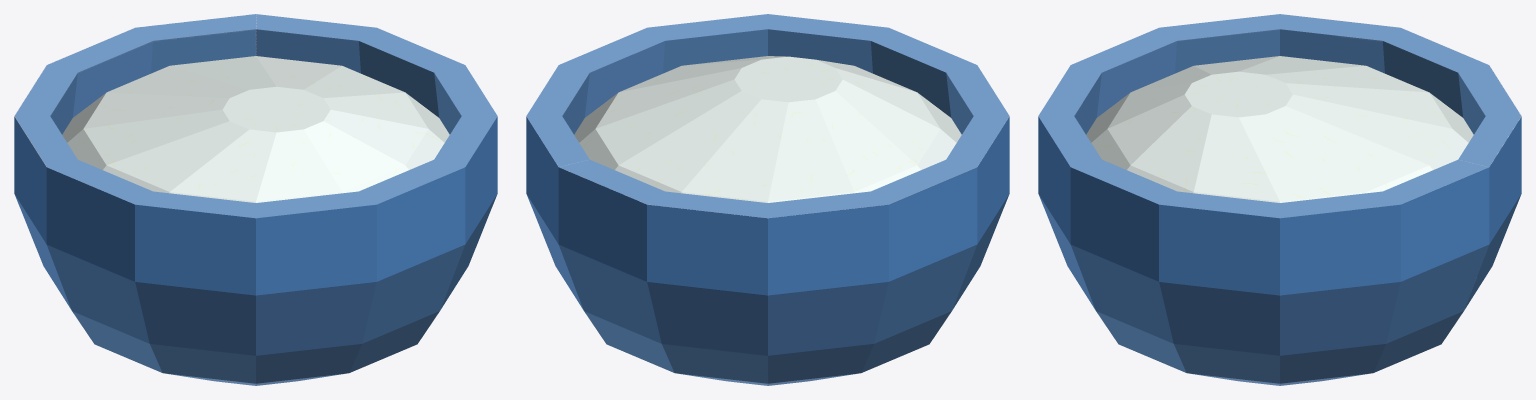
Rendered from arroz.fbx.
3 views of the same model, side by side, from view 1: azimuth 30°, elevation 25°; view 2: azimuth 150°, elevation 25°; view 3: azimuth 270°, elevation 25° (orthographic).
Visible parts, largest first — view 1: Sphere; view 2: Sphere; view 3: Sphere.
Part boxes in pixels (bbox=[...]): Sphere: bbox=[14, 14, 497, 385]; Sphere: bbox=[526, 14, 1009, 385]; Sphere: bbox=[1038, 14, 1521, 385].
Bounding box in the file's own units: 197 × 115 × 197.
